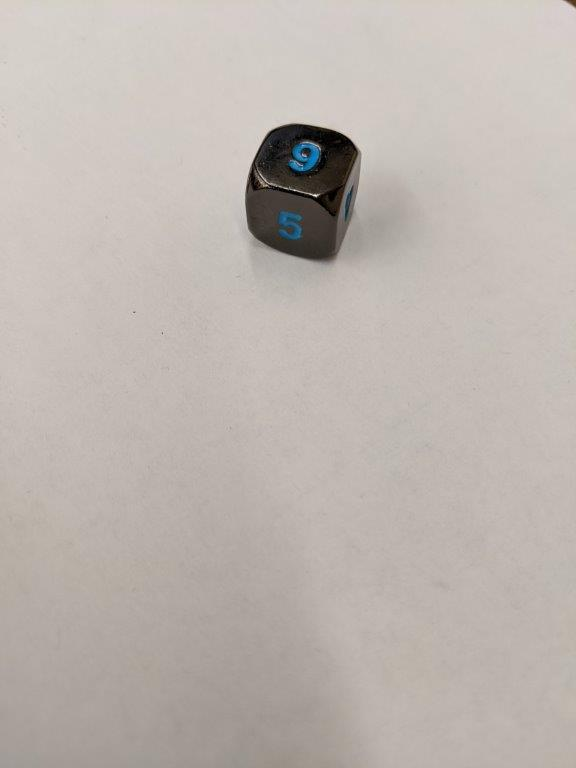d6-6: (244, 122, 363, 262)
